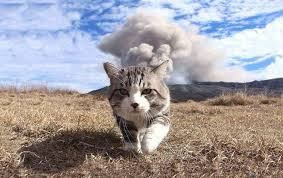cat: (97, 54, 178, 129)
